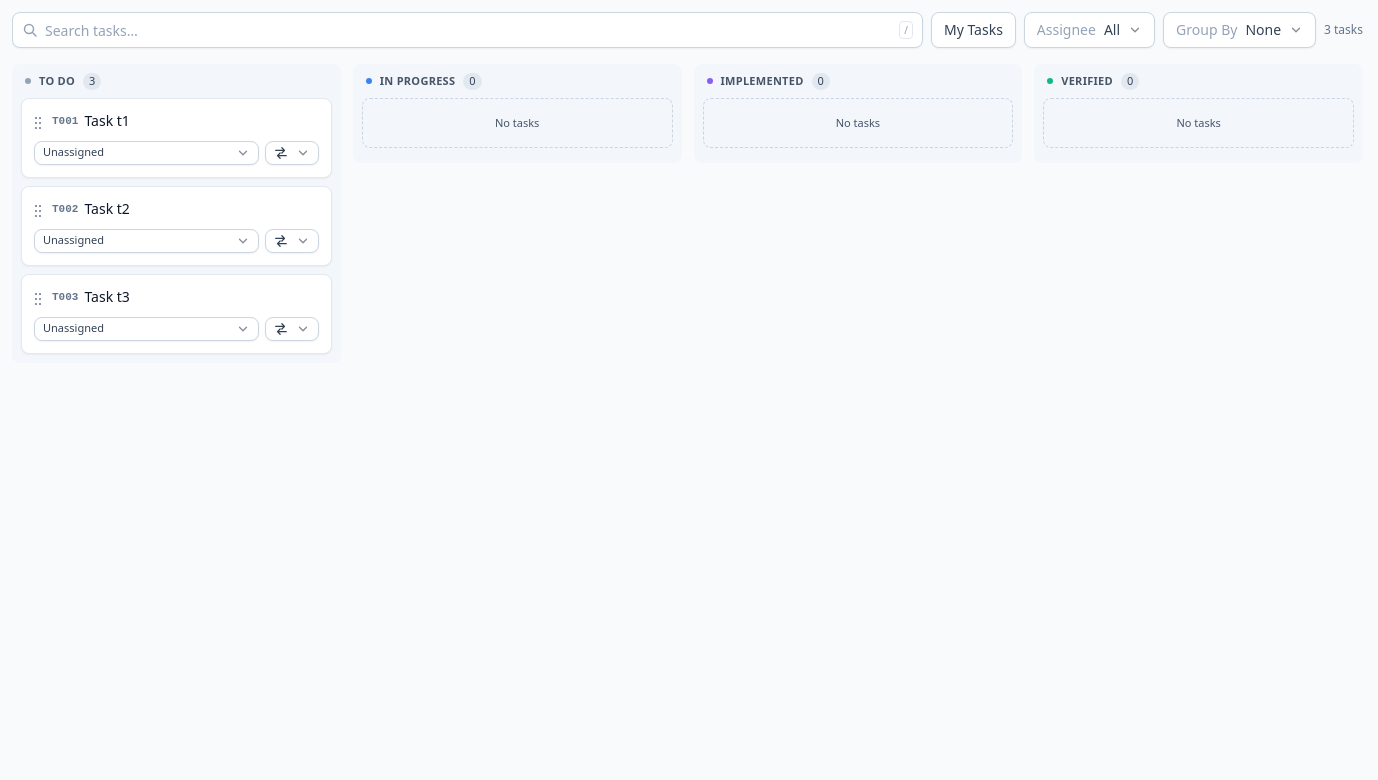
Test case: TaskBoard status › returns the card to its column when the move is rejected
Expected: the button "Task t1" is shown, [84, 110, 319, 130]
Click the dropdown named "Move T001 to another column" at (292,152), box [265, 140, 319, 164]
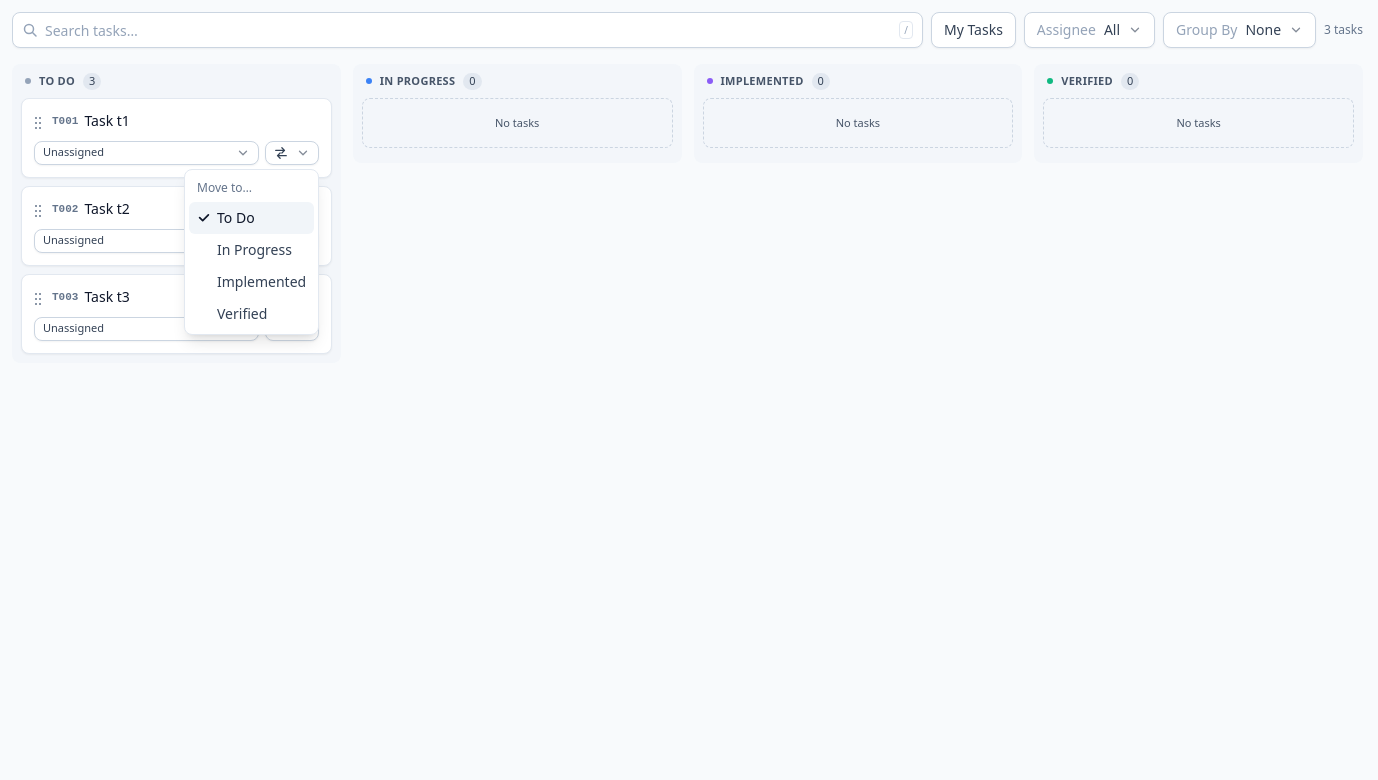
Click the option "In Progress" at (254,250), box [217, 240, 292, 259]
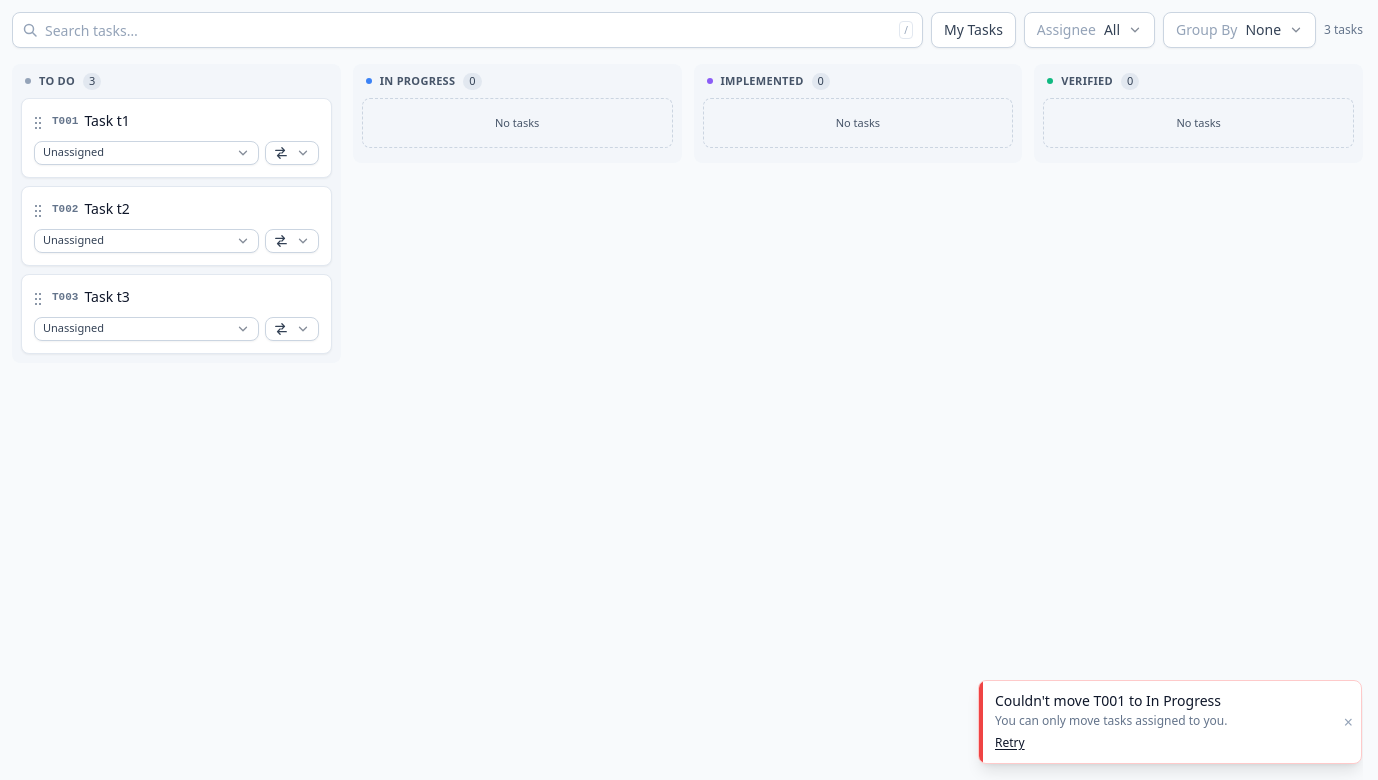
Expected: the element named "Notifications" shows "Couldn't move T001", [995, 691, 1221, 710]
